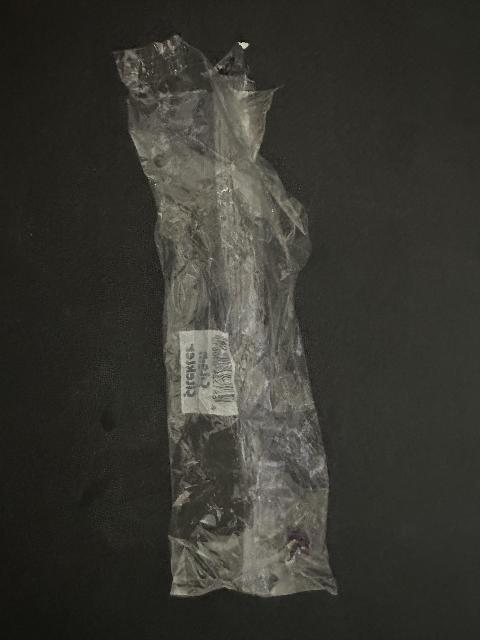Plastik: (110, 40, 343, 592)
